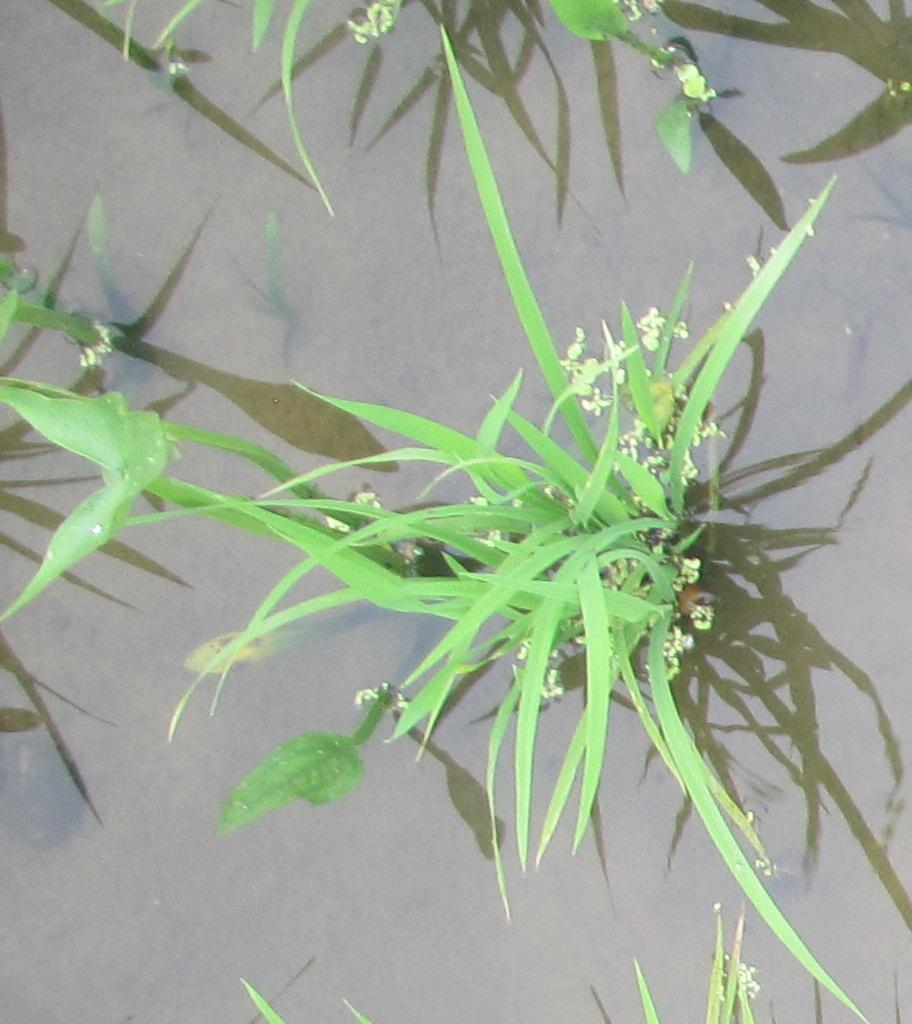Weed: (13, 380, 174, 617), (549, 1, 733, 166)
